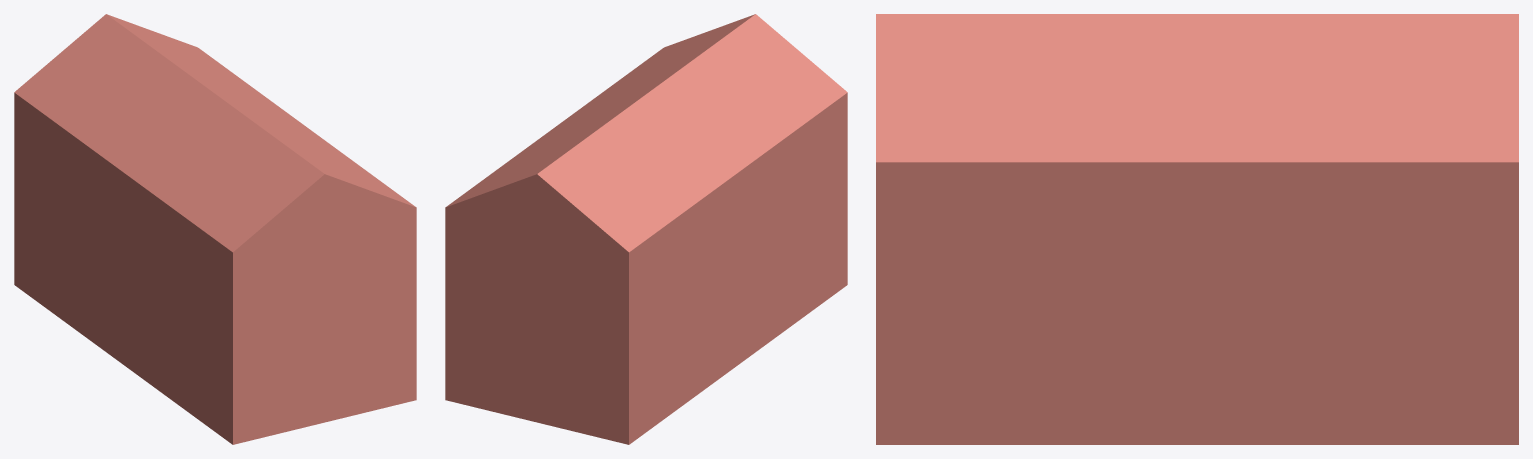
3 renders of one model, left to right at view 1: azimuth 30°, elevation 25°; view 2: azimuth 150°, elevation 25°; view 3: azimuth 270°, elevation 25°, orthographic. The views are drawn at different scales.
Visible parts, largest first — view 1: Cube; view 2: Cube; view 3: Cube.
Part boxes in pixels (box(x1,y1,x2,y2)): Cube: box(14, 14, 416, 444); Cube: box(445, 14, 847, 444); Cube: box(876, 14, 1518, 444).
Size of the model in its own units: 200 by 258 by 412.
